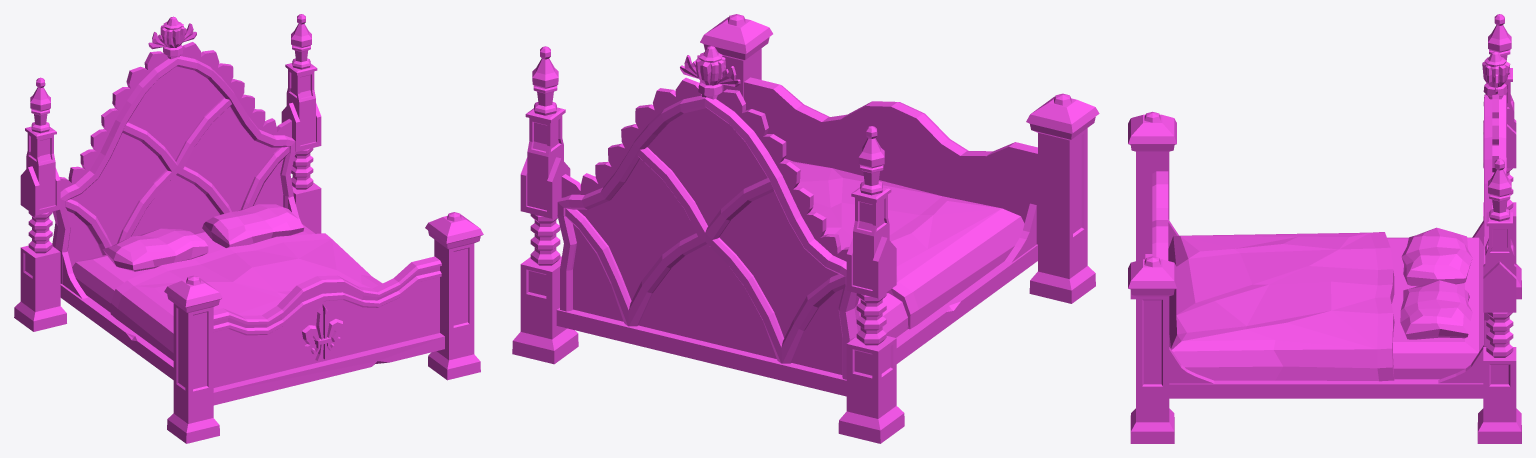
The model's file is SM_Bed_Royale_Fantasy.fbx.
The picture shows the model from 3 angles, left to right: view 1: azimuth 30°, elevation 25°; view 2: azimuth 150°, elevation 25°; view 3: azimuth 270°, elevation 25°; orthographic projection. The views are drawn at different scales.
Visible parts, largest first — view 1: SM_Bed_Royale_Fantasy; view 2: SM_Bed_Royale_Fantasy; view 3: SM_Bed_Royale_Fantasy.
Boxes of the visible parts, x1,y1,x2,y2 form: SM_Bed_Royale_Fantasy: (14, 14, 483, 443); SM_Bed_Royale_Fantasy: (512, 14, 1099, 443); SM_Bed_Royale_Fantasy: (1128, 14, 1521, 443).
Bounding box in the file's own units: 2.46 × 2.16 × 2.48.
